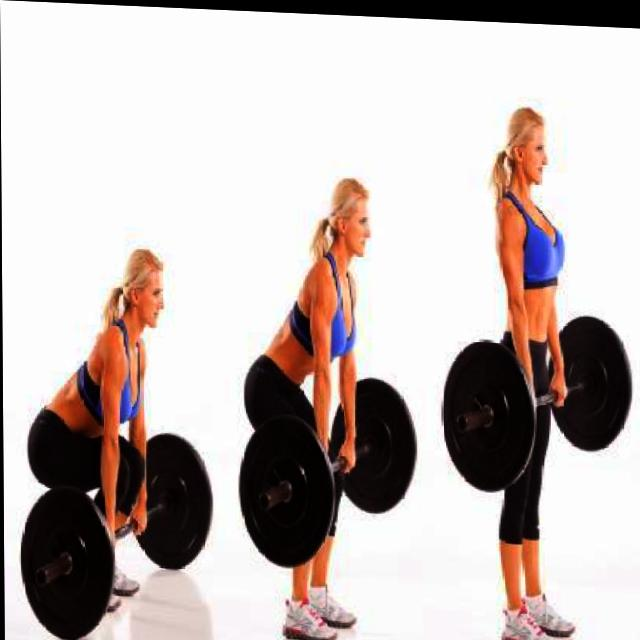barbell: (234, 405, 339, 571), (438, 331, 542, 494), (16, 477, 115, 640)
